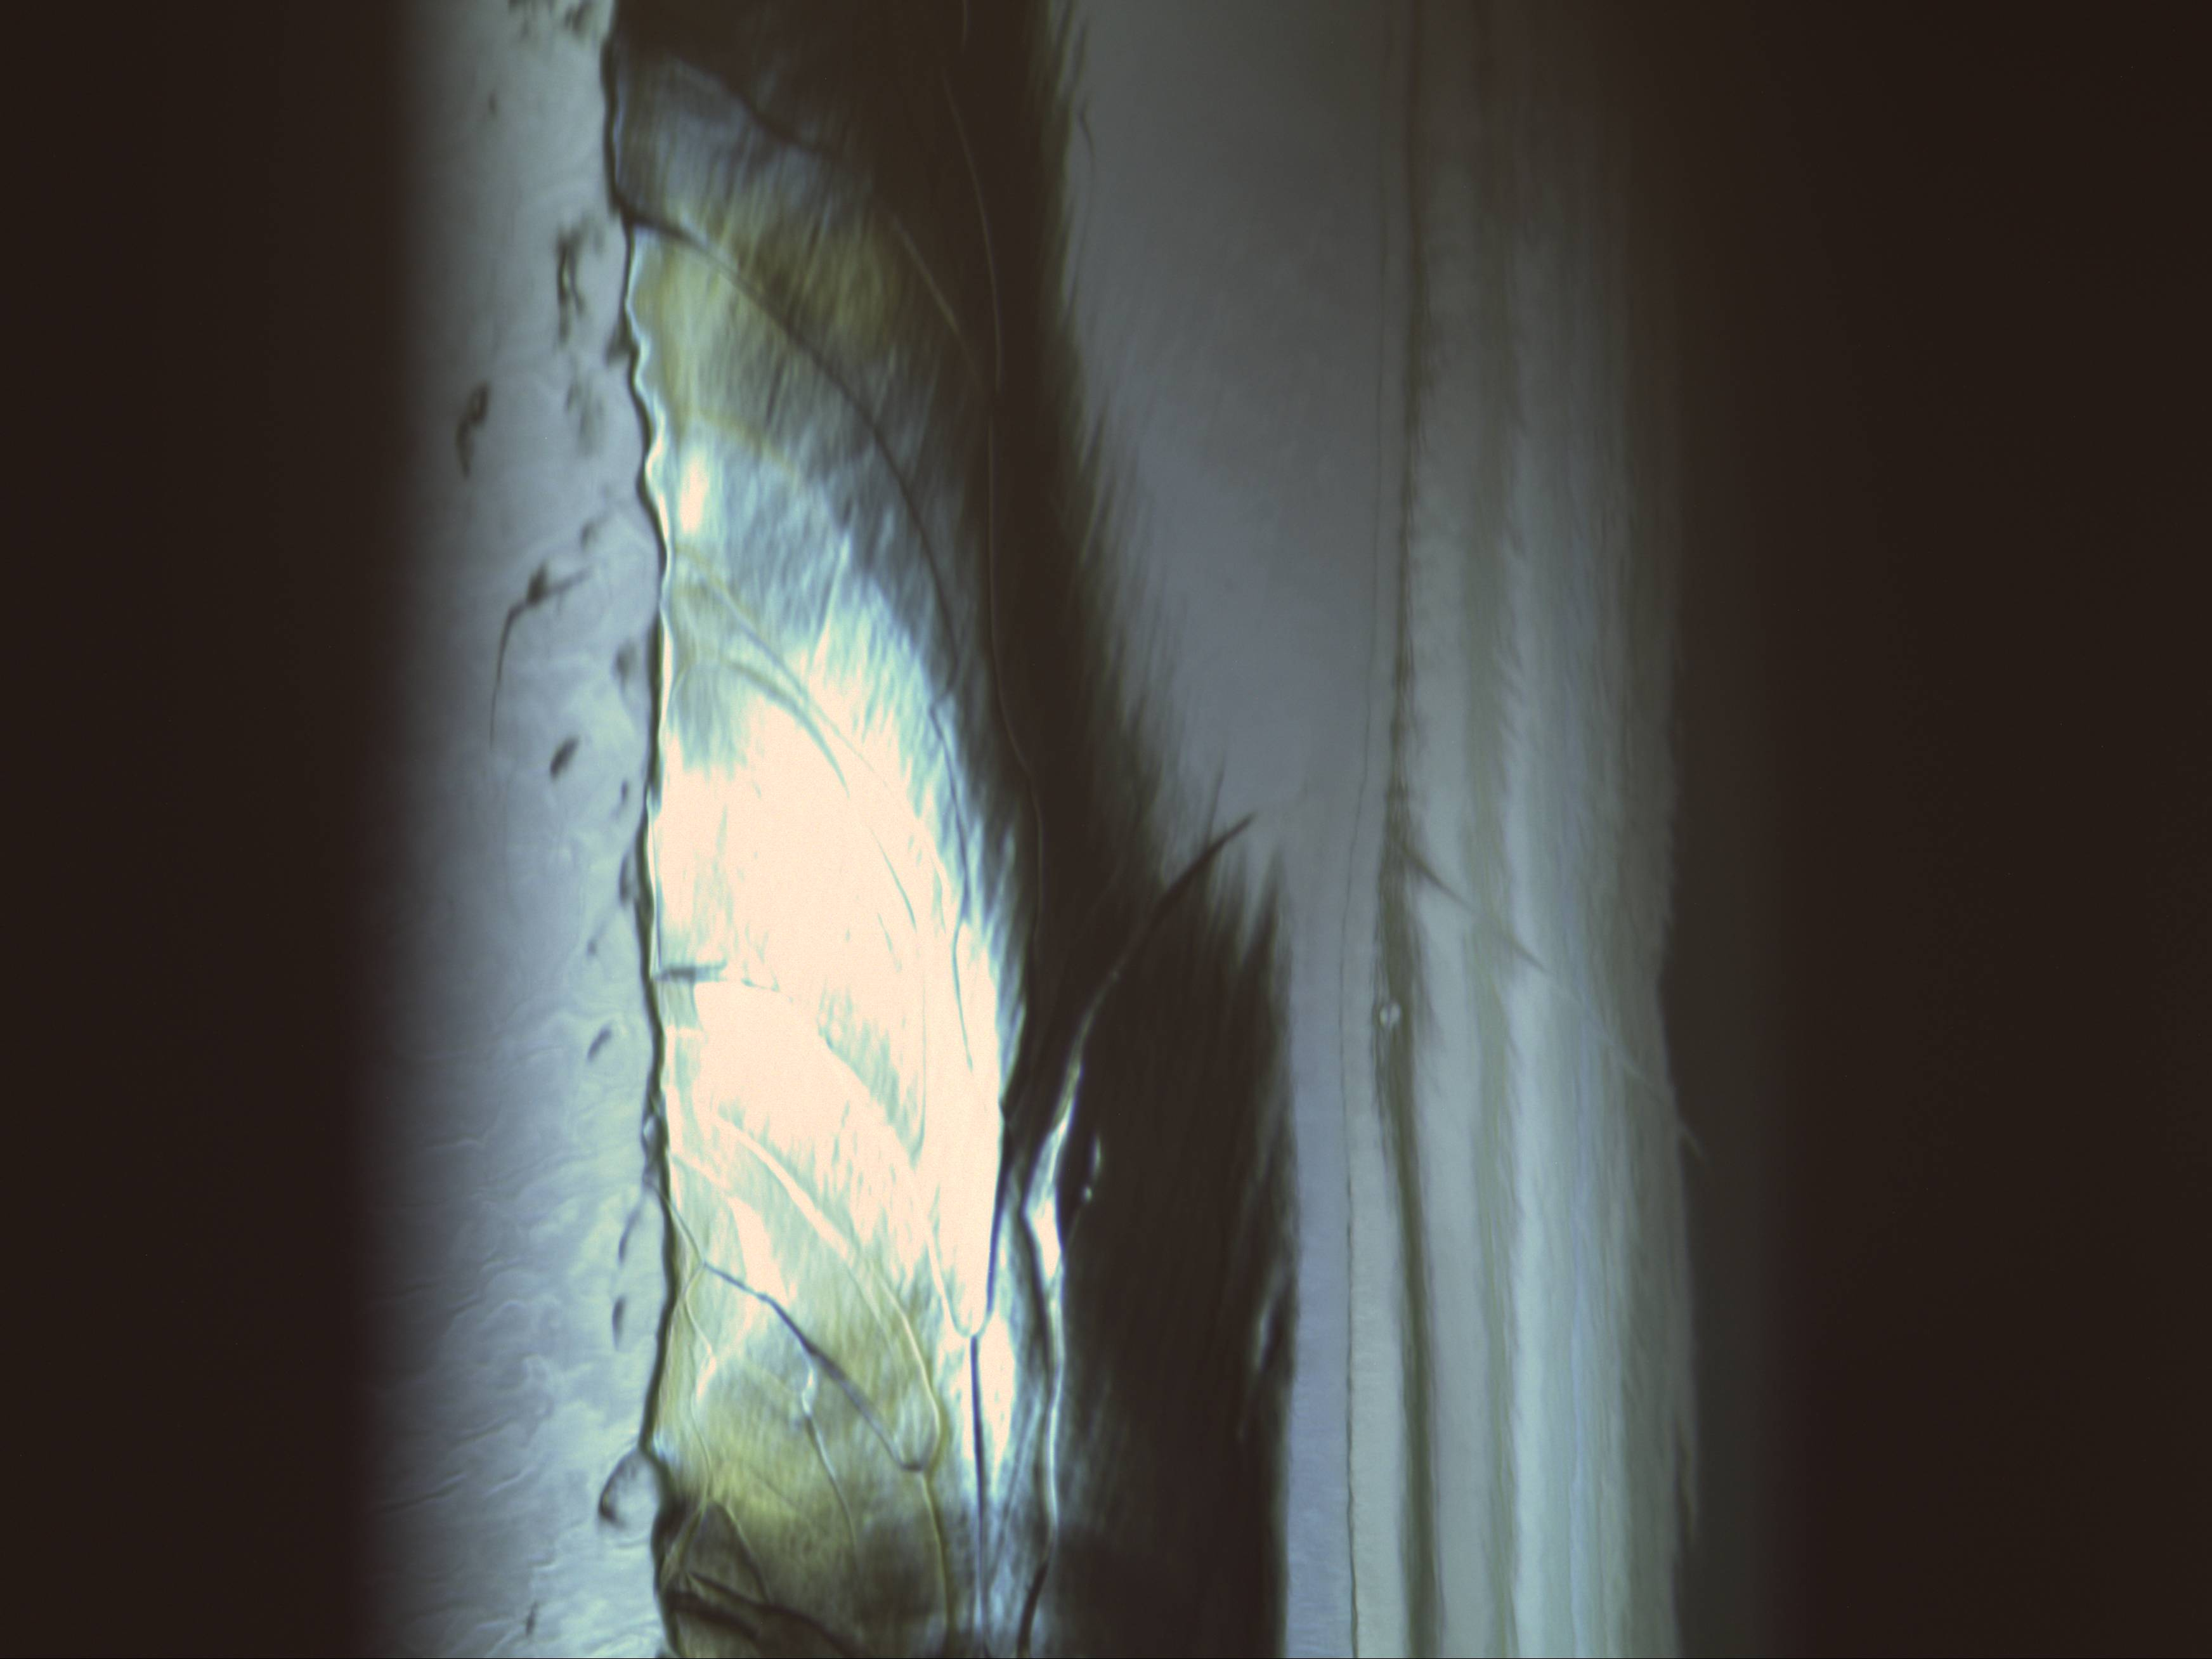defect: (1376, 997, 1411, 1033)
